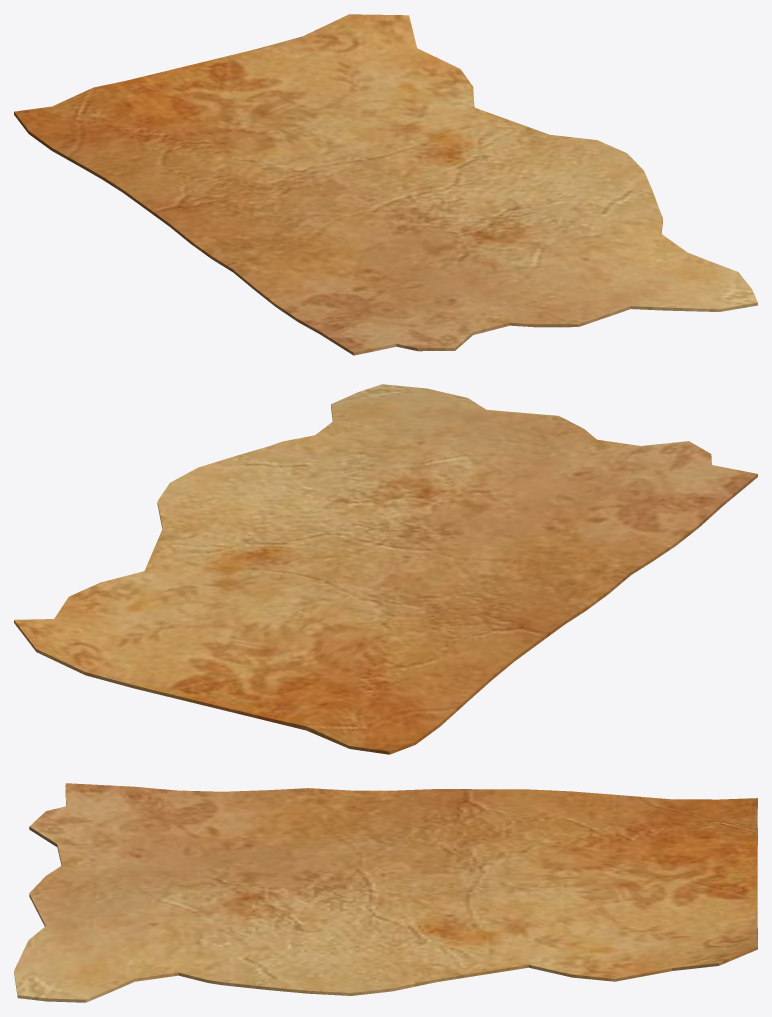
File: Puz4-Paper1.fbx
The picture shows the model from 3 angles, top to bottom: view 1: azimuth 30°, elevation 25°; view 2: azimuth 150°, elevation 25°; view 3: azimuth 270°, elevation 25°; orthographic projection. The views are drawn at different scales.
Visible parts, largest first — view 1: pCube1; view 2: pCube1; view 3: pCube1.
Boxes of the visible parts, box(x1,y1,x2,y2) form: pCube1: box(14, 14, 757, 355); pCube1: box(14, 384, 757, 754); pCube1: box(14, 783, 757, 1002).
Bounding box in the file's own units: 0.7293 × 0.0586 × 1.12.
1 material, 1 textured.
